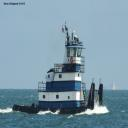tugboat: (12, 21, 106, 120)
